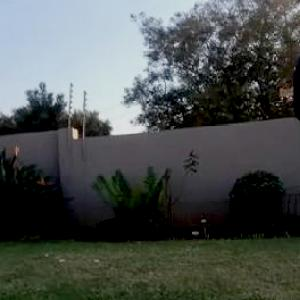follow: (284, 0, 300, 299)
